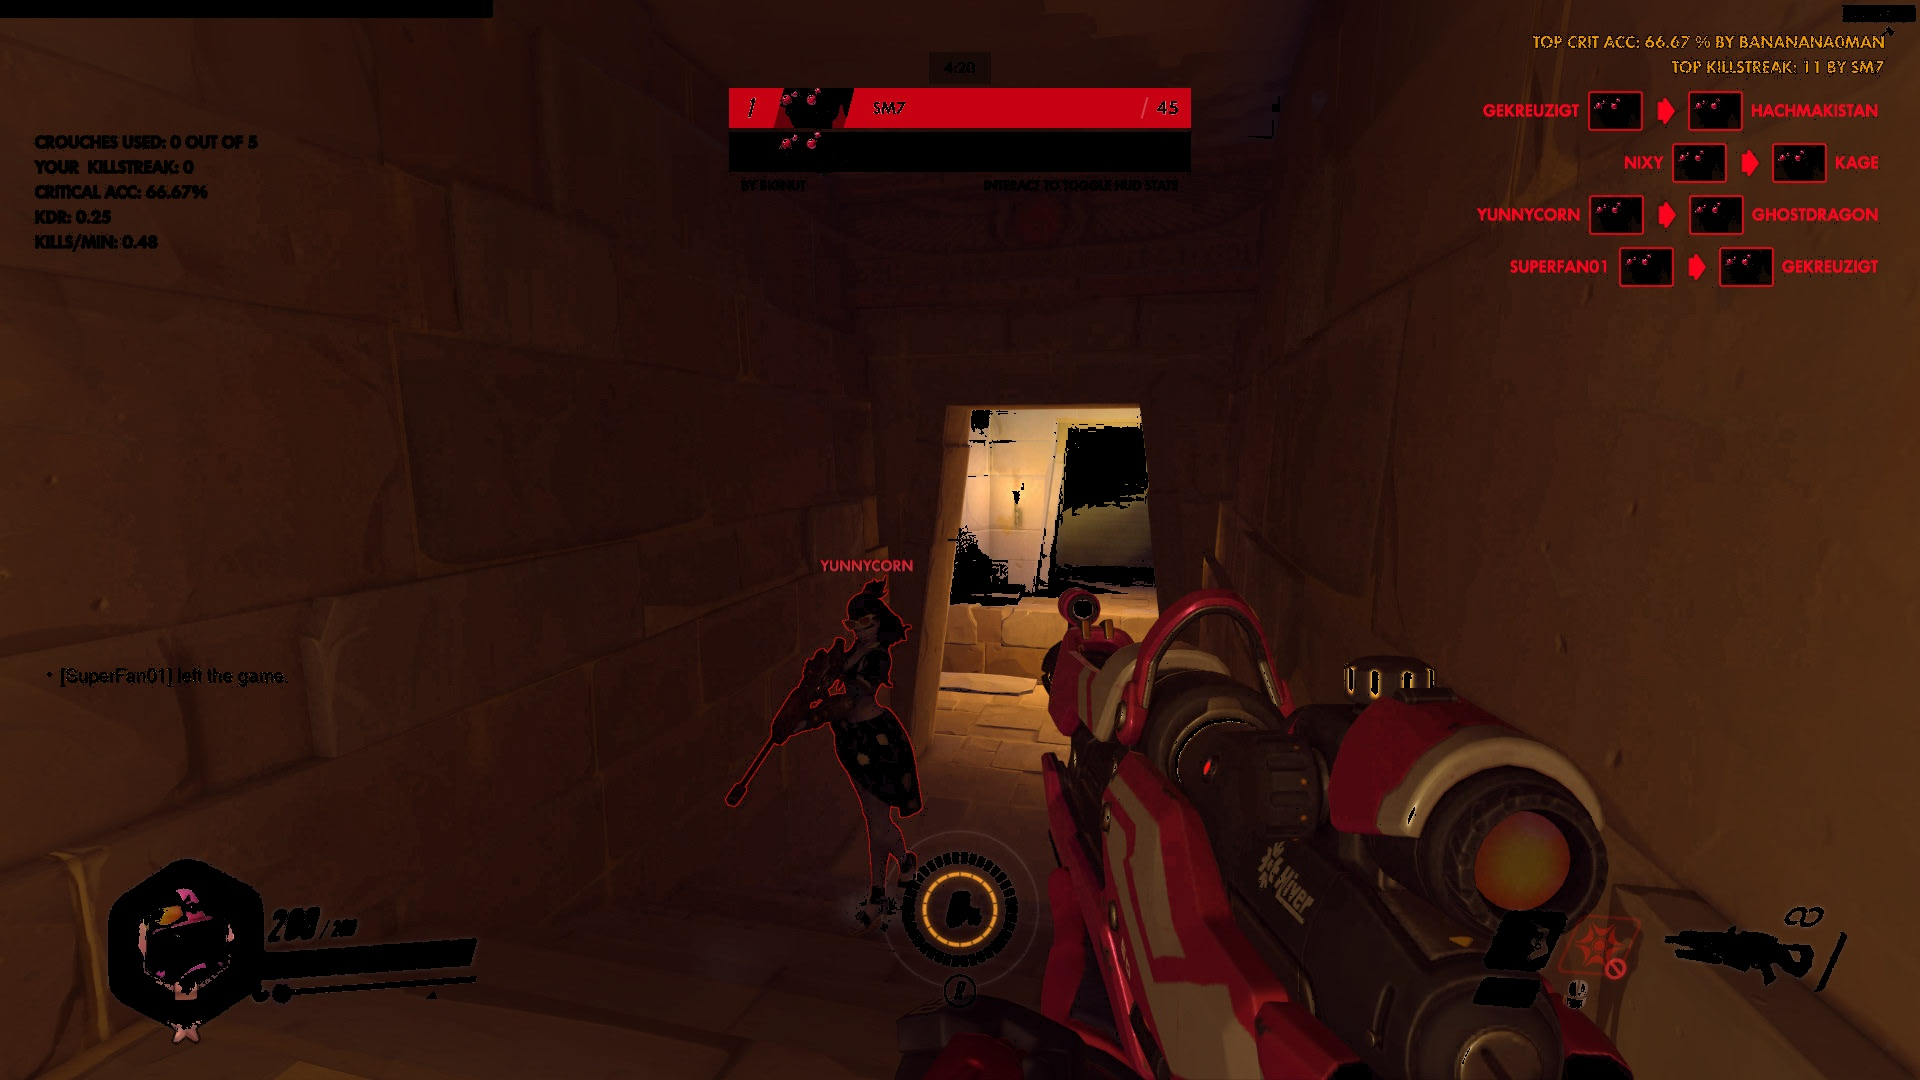widowmaker: (786, 576, 945, 939)
